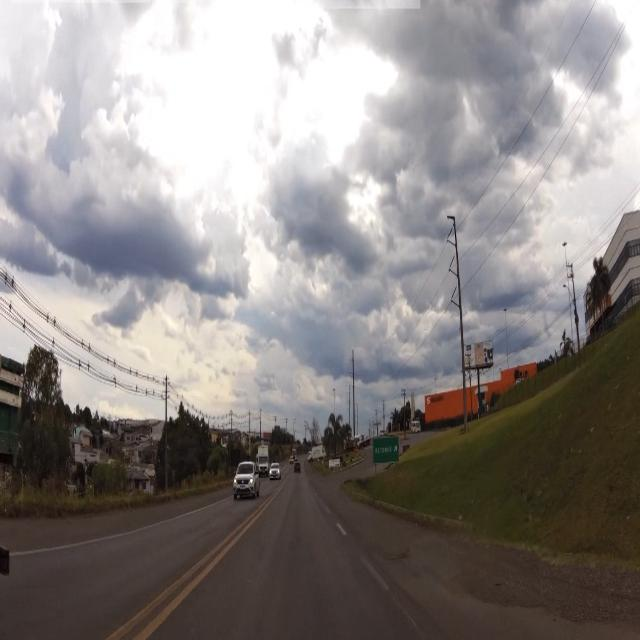I-4: (373, 435, 398, 463)
